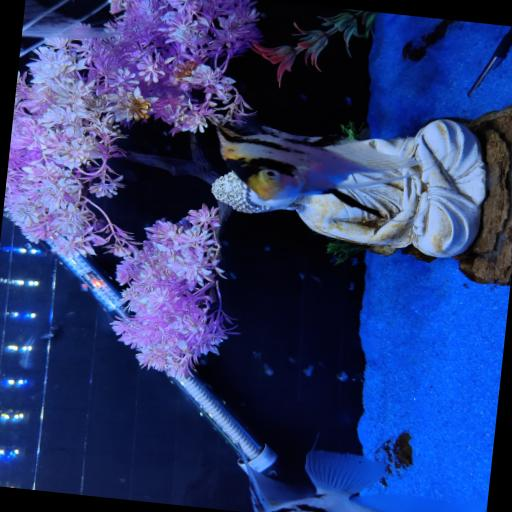Fish: (218, 124, 418, 215), (246, 449, 486, 511)
